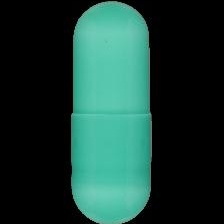0378-0143: (0, 0, 224, 224)
